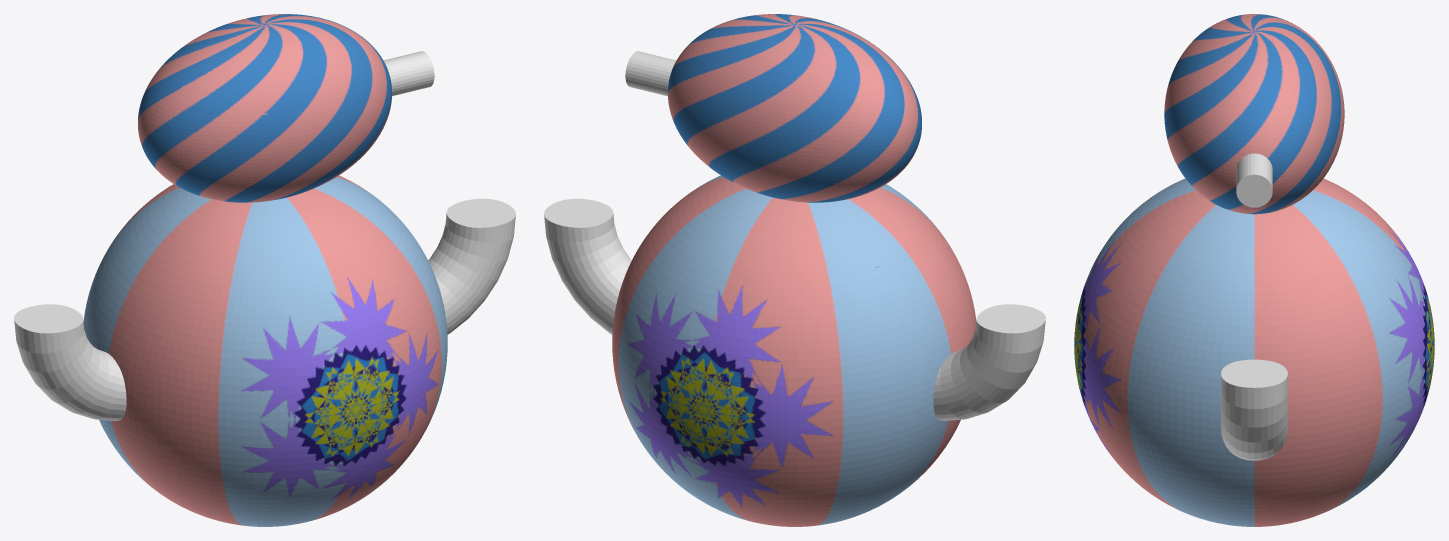
Rendered from BOD0_BMC11_BCC15_BPT2_FRC21_HEA1_HMC8_HCC11_HPT3_ELT0_ERT1_ELL0_ERL0_AP3_AAL1_AAR1_BEK0.fbx.
3 renders of one model, left to right at view 1: azimuth 30°, elevation 25°; view 2: azimuth 150°, elevation 25°; view 3: azimuth 270°, elevation 25°, orthographic.
Visible parts, largest first — view 1: Body, Arm.001, Arm, Ear; view 2: Body, Arm.001, Arm, Ear; view 3: Body, Arm, Ear.
Part boxes in pixels (box(x1,y1,x2,y2)): Body: box(83, 14, 447, 526); Arm.001: box(14, 304, 126, 420); Arm: box(428, 198, 515, 334); Ear: box(383, 51, 434, 96); Body: box(612, 14, 976, 526); Arm.001: box(933, 304, 1045, 420); Arm: box(544, 198, 631, 334); Ear: box(625, 51, 676, 96); Body: box(1074, 14, 1434, 526); Arm: box(1221, 359, 1287, 460); Ear: box(1236, 153, 1272, 207).
Size of the model in its own units: 76.63 by 72.41 by 49.36.
Materials: 1 (1 with a texture image).
